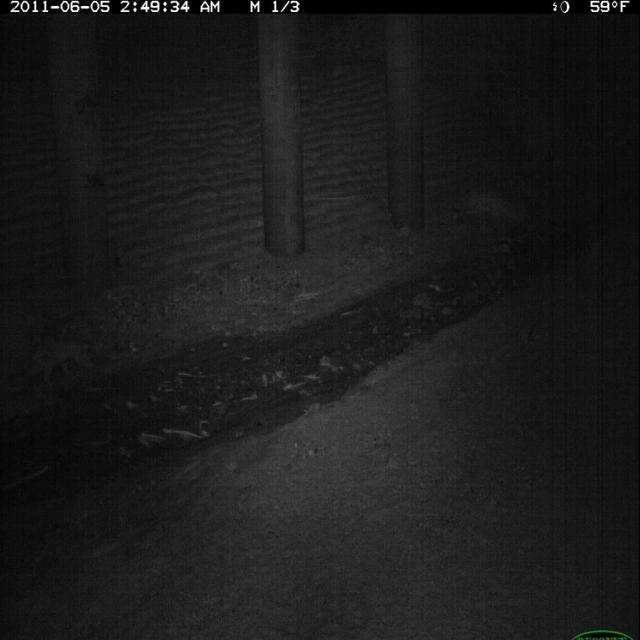bobcat: (24, 329, 99, 390)
